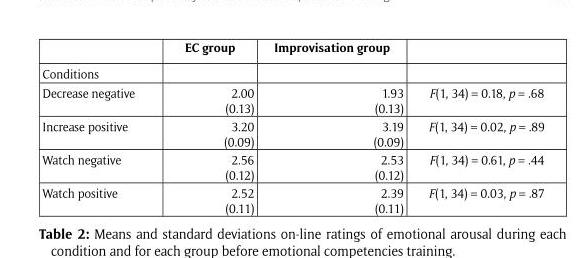table: (41, 41, 543, 214)
table column: (263, 41, 415, 214), (415, 41, 543, 214), (41, 41, 159, 214), (159, 41, 263, 214)
table column header: (41, 41, 543, 59)
table projected row header: (41, 59, 543, 82)
table row: (41, 82, 543, 116), (41, 116, 543, 150), (41, 150, 543, 183), (41, 183, 543, 214), (41, 59, 543, 82), (41, 41, 543, 59)
